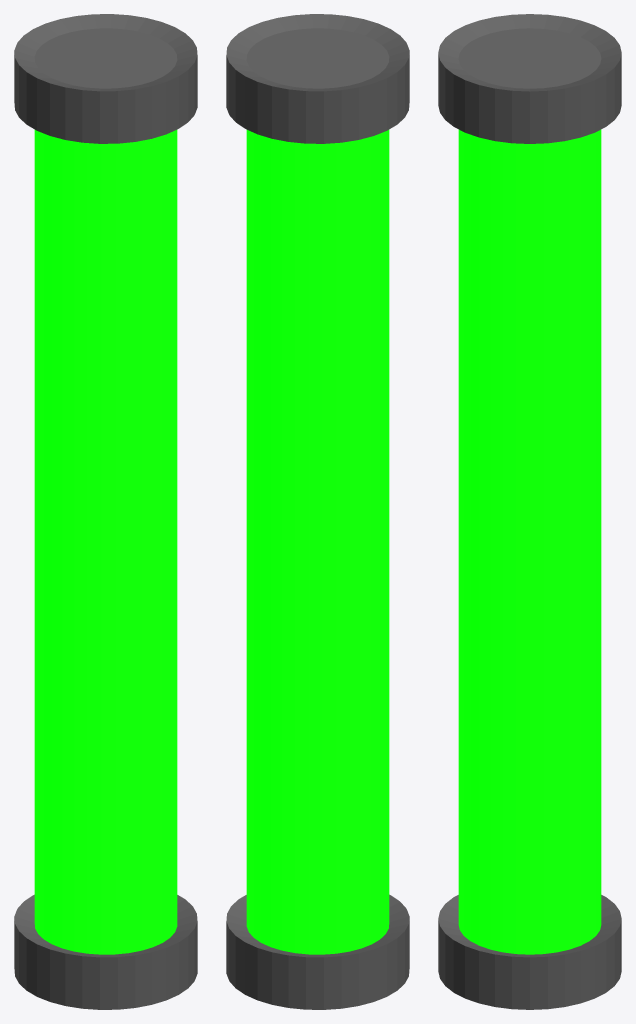
File: Generator.glb
The picture shows the model from 3 angles, left to right: view 1: azimuth 30°, elevation 25°; view 2: azimuth 150°, elevation 25°; view 3: azimuth 270°, elevation 25°; orthographic projection.
Visible parts, largest first — view 1: Cylinder; view 2: Cylinder; view 3: Cylinder.
Part boxes in pixels (<box>): Cylinder: <box>14,14,197,1009</box>; Cylinder: <box>226,14,409,1009</box>; Cylinder: <box>438,14,621,1009</box>.
Size of the model in its own units: 1.28 by 7.09 by 1.28.
